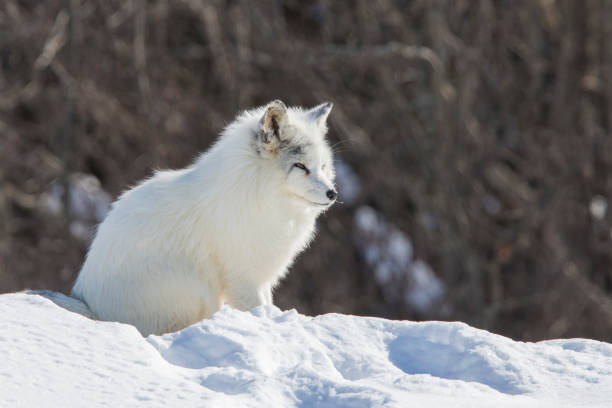arcticfox: (269, 121, 336, 220)
